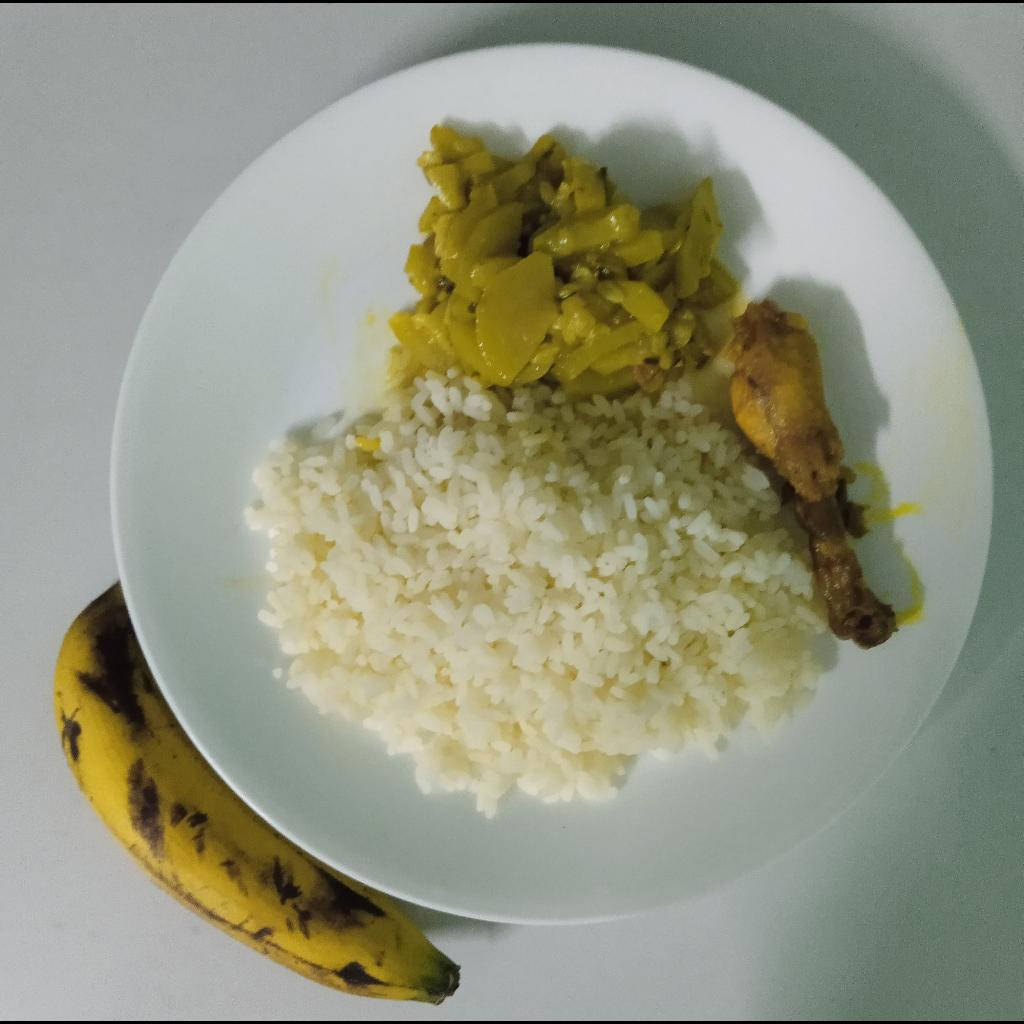banana: (54, 582, 461, 1005)
chicken: (730, 296, 897, 657)
dundol: (393, 122, 740, 396)
rice: (249, 382, 824, 812)
